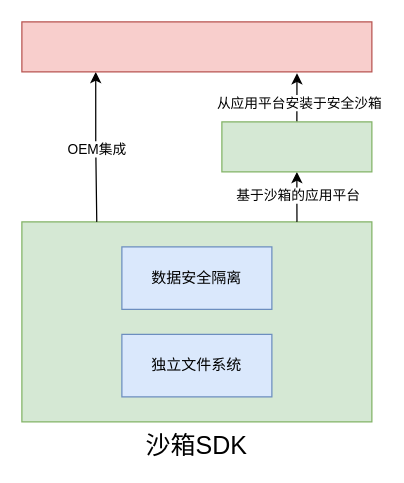
The diagram is 404 pixels wide and 483 high, and some of its shapes have lost their labels. Here are the shapes that lost their labels. From the top down, the centre of each, then its label:
At (196,46): "APP".
At (296,146): "安全工作台".
